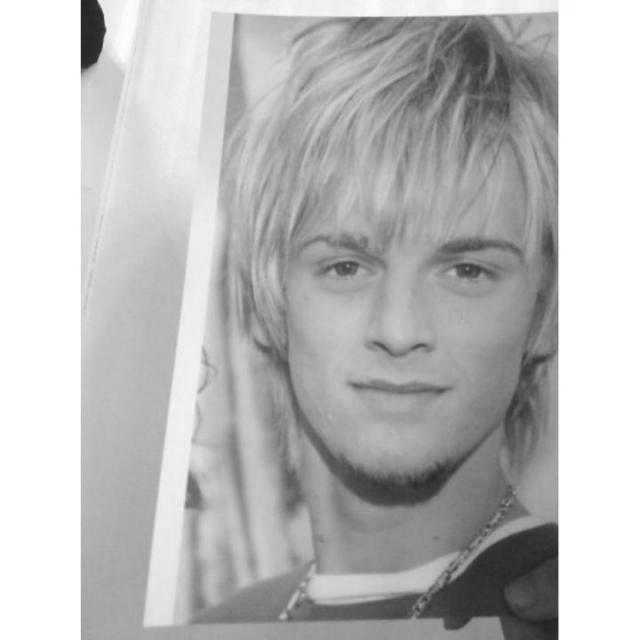fake: (137, 4, 559, 640)
